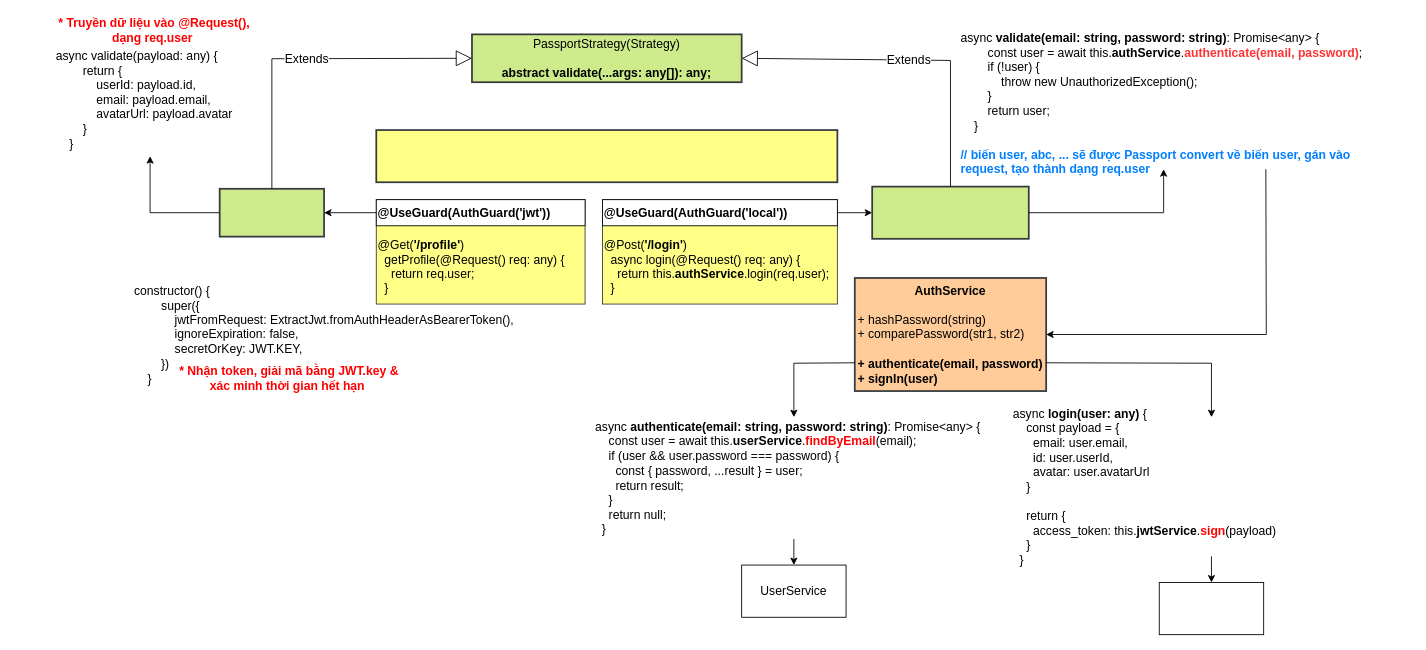
Image size: 1426x650. Some labels were removed from this diagram. The shapes that lost their labels are listed below. From the top down, each one's centre as x and y in pixels, then its label:
point (606, 156): AuthController @Controller('auth')
point (271, 212): JwtStrategy validate(payload)
point (950, 212): LocalStrategy validate(email, password)
point (1211, 608): JwtService
